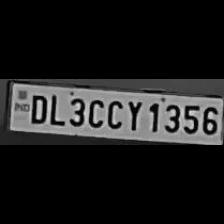1: (144, 100, 160, 132)
3: (160, 100, 180, 134), (66, 94, 86, 126)
5: (180, 101, 200, 135)
6: (200, 102, 218, 136)
C: (104, 96, 124, 130), (84, 95, 104, 127)
D: (26, 92, 46, 124)
L: (48, 92, 64, 126)
Y: (123, 97, 143, 131)
